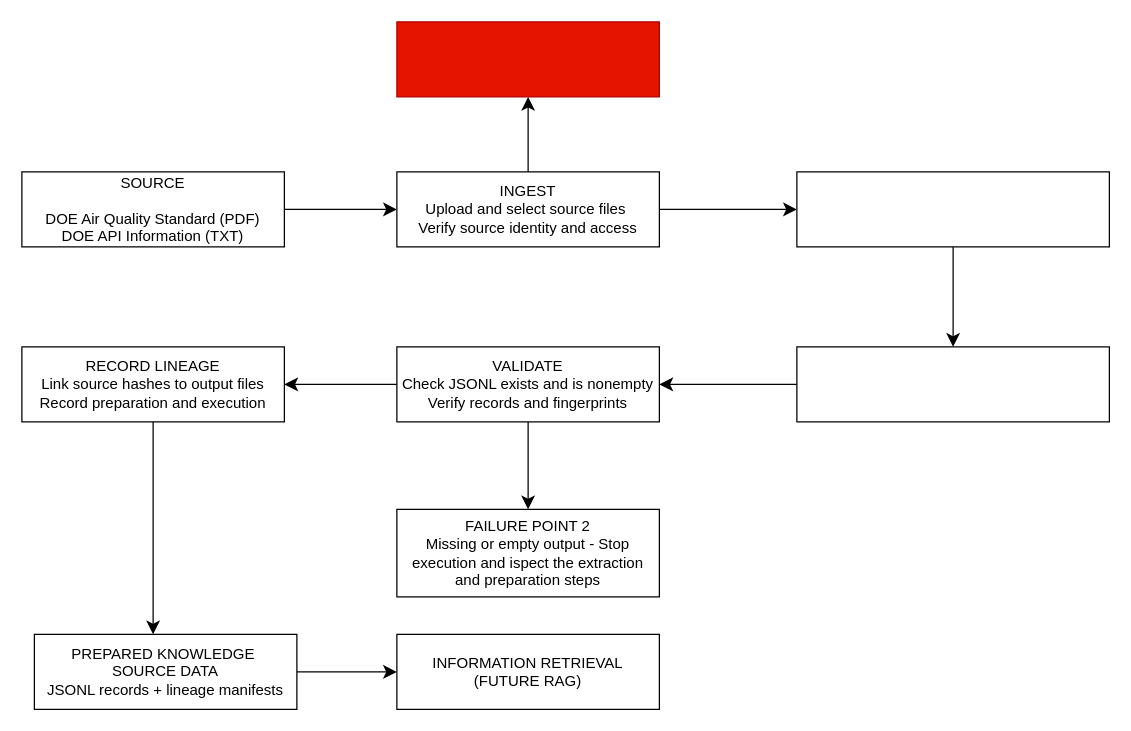
Image size: 1131x731. Some labels were removed from this diagram. The shapes that lost their labels are listed below. From the top down, each one's centre as x and y in pixels, then its label:
the point at 527,59: FAILURE POINT 1 Missing source file - Stop execution and check the file path
the point at 952,209: INSPECT Read PDF/TXT and inspect samples Check pages and extracted characters
the point at 952,384: TRANSFORM Extract text and clean whitespace Paragraph-aware chunking (500 chars)
